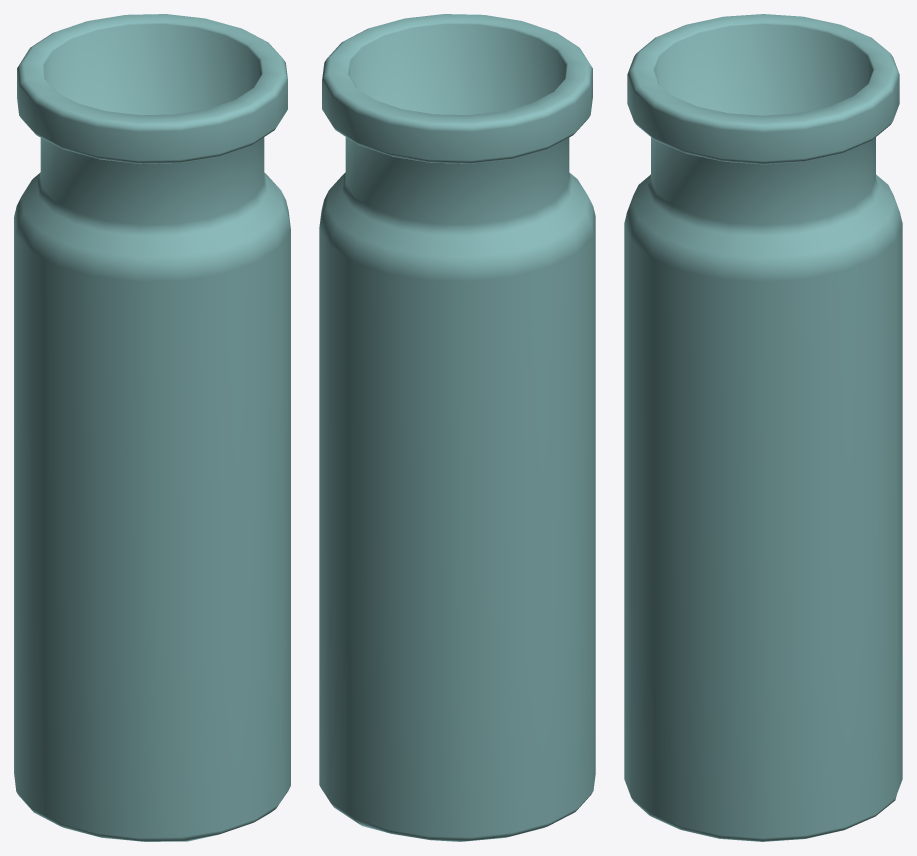
Rendered from SM_Jar_04_Unity.fbx.
3 renders of one model, left to right at view 1: azimuth 30°, elevation 25°; view 2: azimuth 150°, elevation 25°; view 3: azimuth 270°, elevation 25°, orthographic.
Visible parts, largest first — view 1: SM_Jar_04; view 2: SM_Jar_04; view 3: SM_Jar_04.
Part boxes in pixels (<box>): SM_Jar_04: <box>14,14,290,841</box>; SM_Jar_04: <box>319,14,595,841</box>; SM_Jar_04: <box>624,14,902,841</box>.
Bounding box in the file's own units: 14.15 × 40.25 × 14.15.
